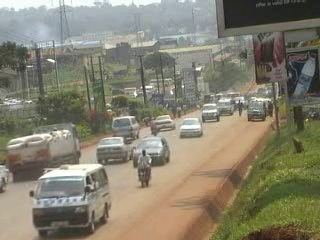Car: (130, 135, 173, 168), (92, 133, 134, 165), (175, 115, 205, 140), (198, 101, 222, 124), (153, 113, 176, 131)
Motorcycle: (135, 158, 152, 190), (149, 122, 158, 136)
